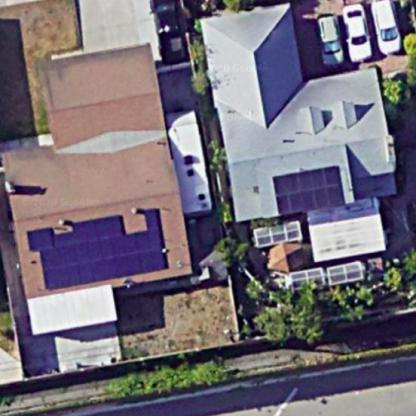car: (366, 1, 406, 56), (312, 8, 348, 69), (339, 6, 371, 67)
solar_panel: (15, 207, 179, 293), (263, 167, 358, 215)
